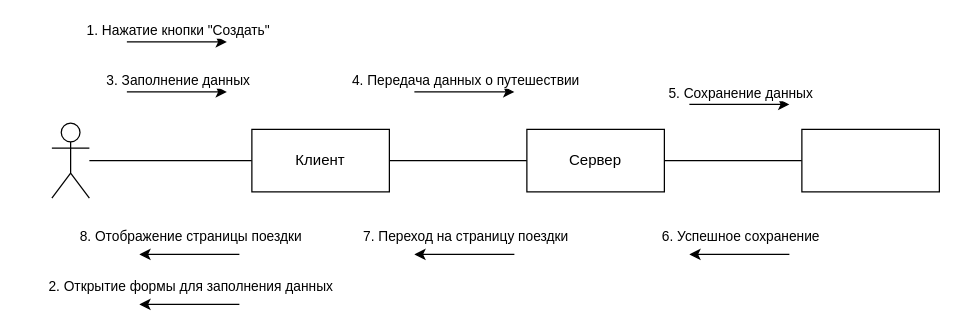
This 961x336 diagram has some shape labels left out. The shapes that lost their labels are listed below. From the top down, each one's box as (x1, y1, x2, y2) in pixels, then its label:
(51, 122, 89, 198): Пользователь
(801, 128, 939, 192): База данных
